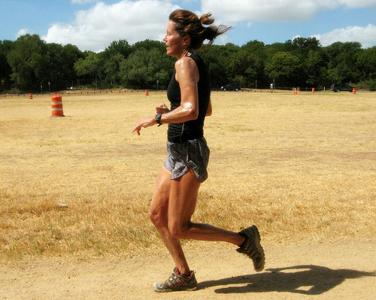person: (131, 9, 268, 295)
